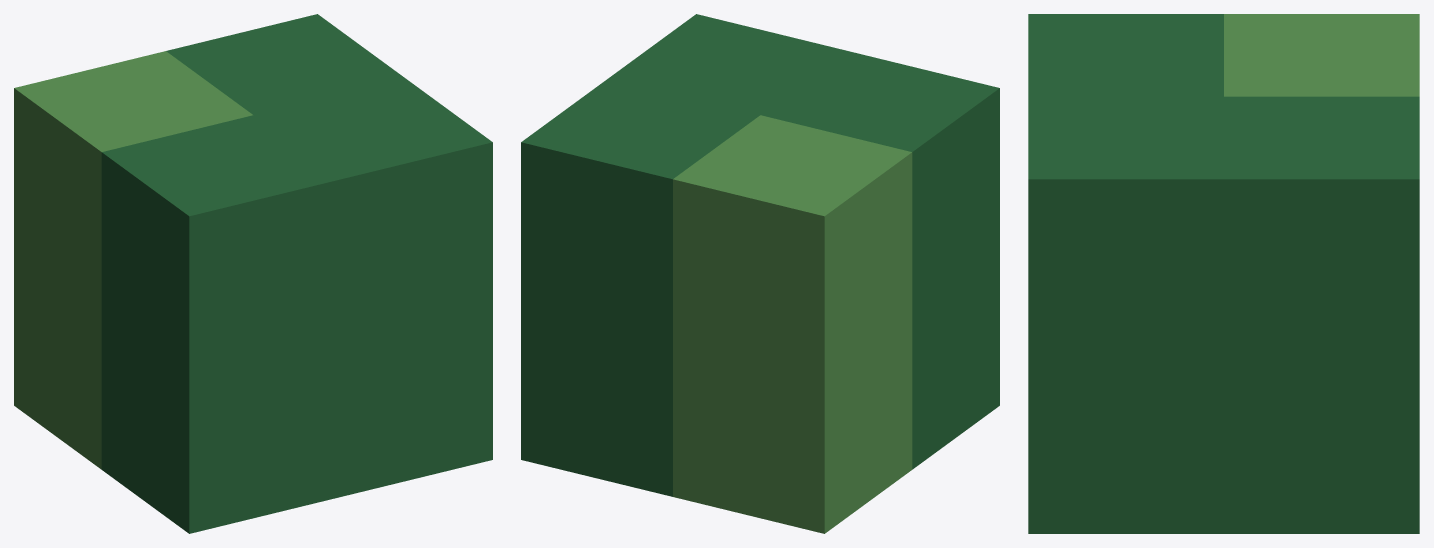
Rendered from ForestIntGrass(MODEL).fbx.
3 views of the same model, side by side, from view 1: azimuth 30°, elevation 25°; view 2: azimuth 150°, elevation 25°; view 3: azimuth 270°, elevation 25° (orthographic). The views are drawn at different scales.
Parts seen in each view (by area): view 1: GFFFFGTile; view 2: GFFFFGTile; view 3: GFFFFGTile.
Boxes of the visible parts, bbox=[...] form: GFFFFGTile: bbox=[14, 14, 492, 533]; GFFFFGTile: bbox=[521, 14, 999, 533]; GFFFFGTile: bbox=[1028, 14, 1419, 533].
Bounding box in the file's own units: 200 × 200 × 200.
